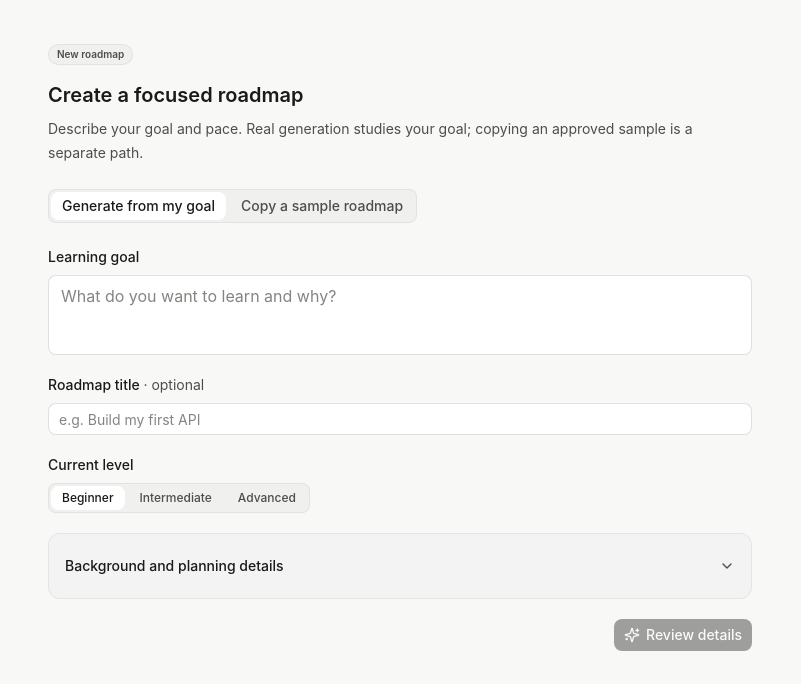
Test case: projects the server phase and persisted events without fabricating completion
Type "Learn to build a small API" into the text box labelled "Learning goal" at (400, 315), box [48,275,752,355]
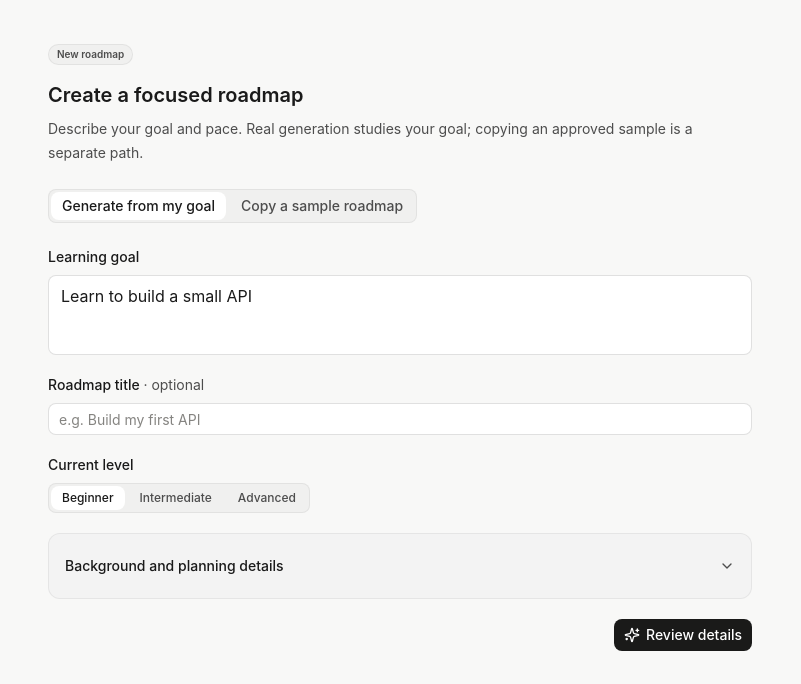
Click the button "Review details" at (683, 635), box [614,619,752,651]
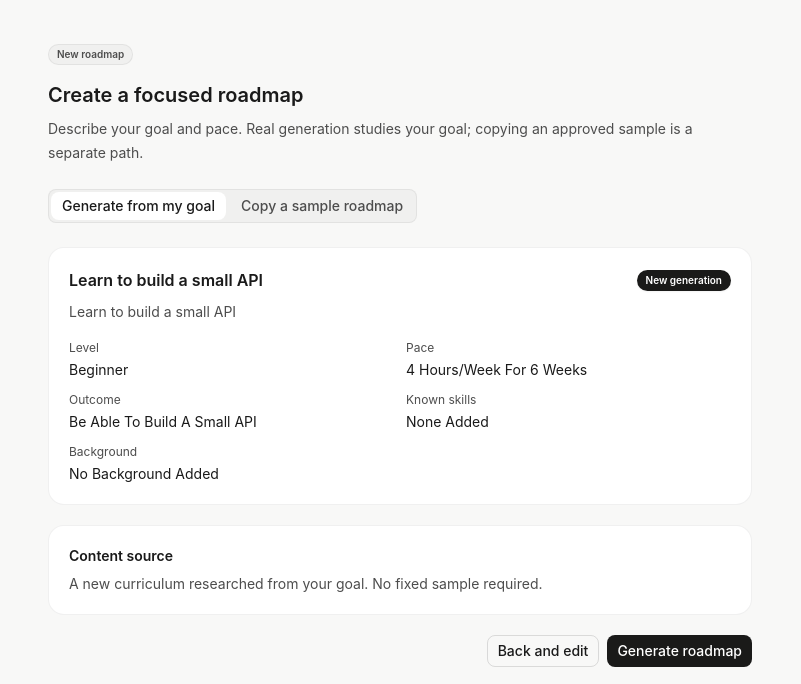
Click the button "Generate roadmap" at (680, 651), box [607,635,752,667]
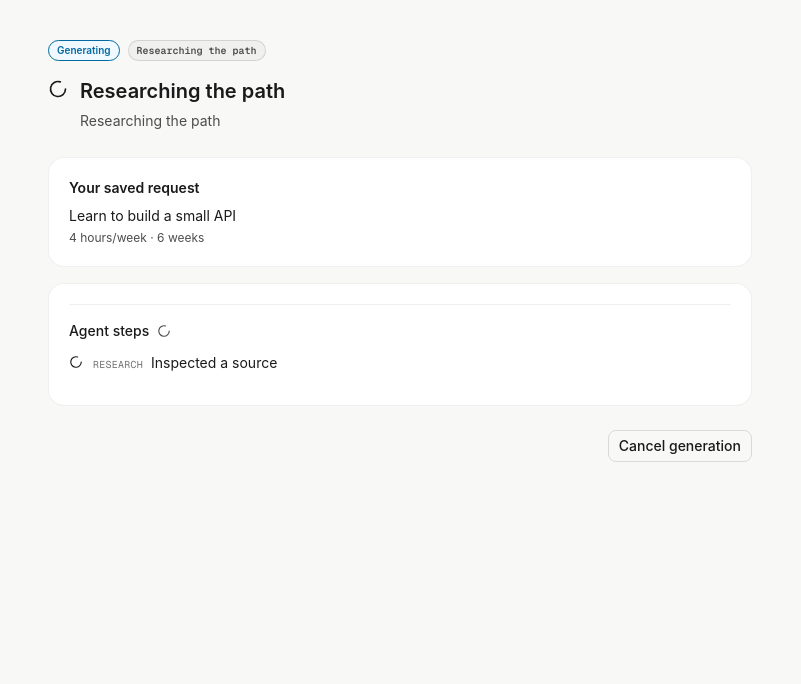
Result: the element with test id "studio-job-progress" is shown
Result: the text with test id "studio-job-phase" reads "Researching the path" at [137,44,257,57]
Result: the text "Inspected a source" is shown at [151,353,277,373]
